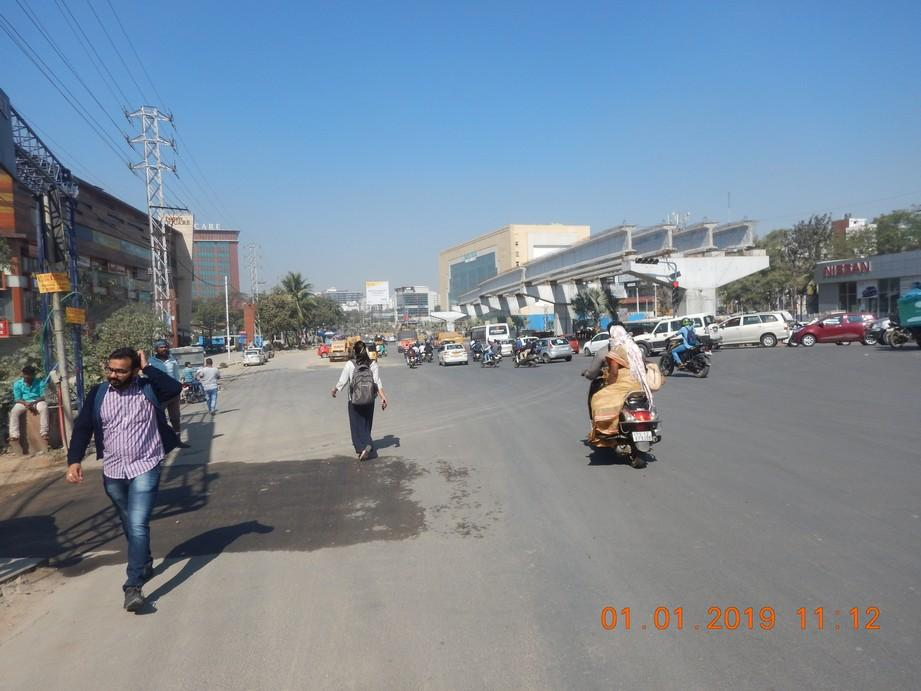plate: (632, 430, 652, 442)
